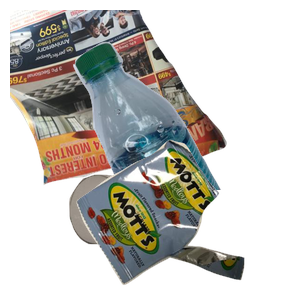glass: (67, 172, 229, 300)
paper: (10, 10, 230, 188)
plastic: (71, 39, 300, 219)
trash: (74, 137, 300, 300)
